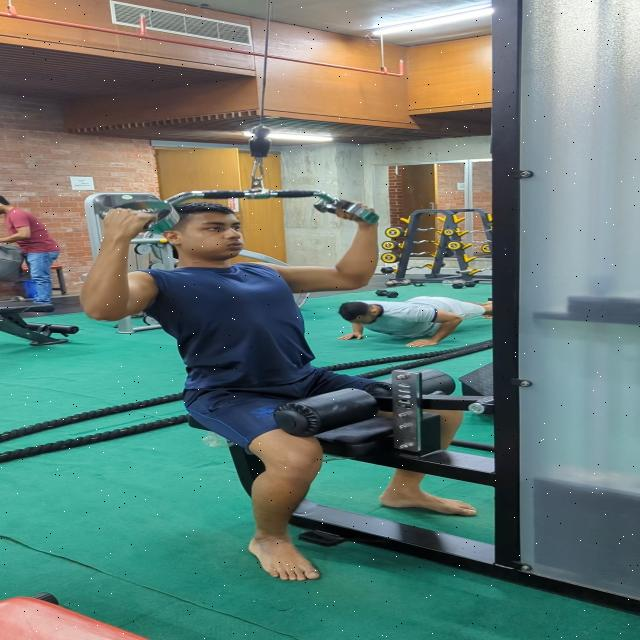Normal_LatPulldown: (65, 170, 480, 590)
